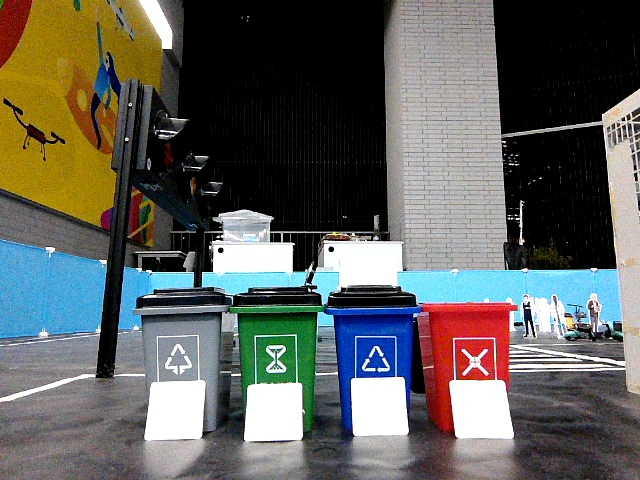blue_close: (331, 285, 409, 373)
green_close: (238, 287, 314, 379)
grey_close: (141, 289, 222, 379)
red_open: (427, 302, 506, 375)
